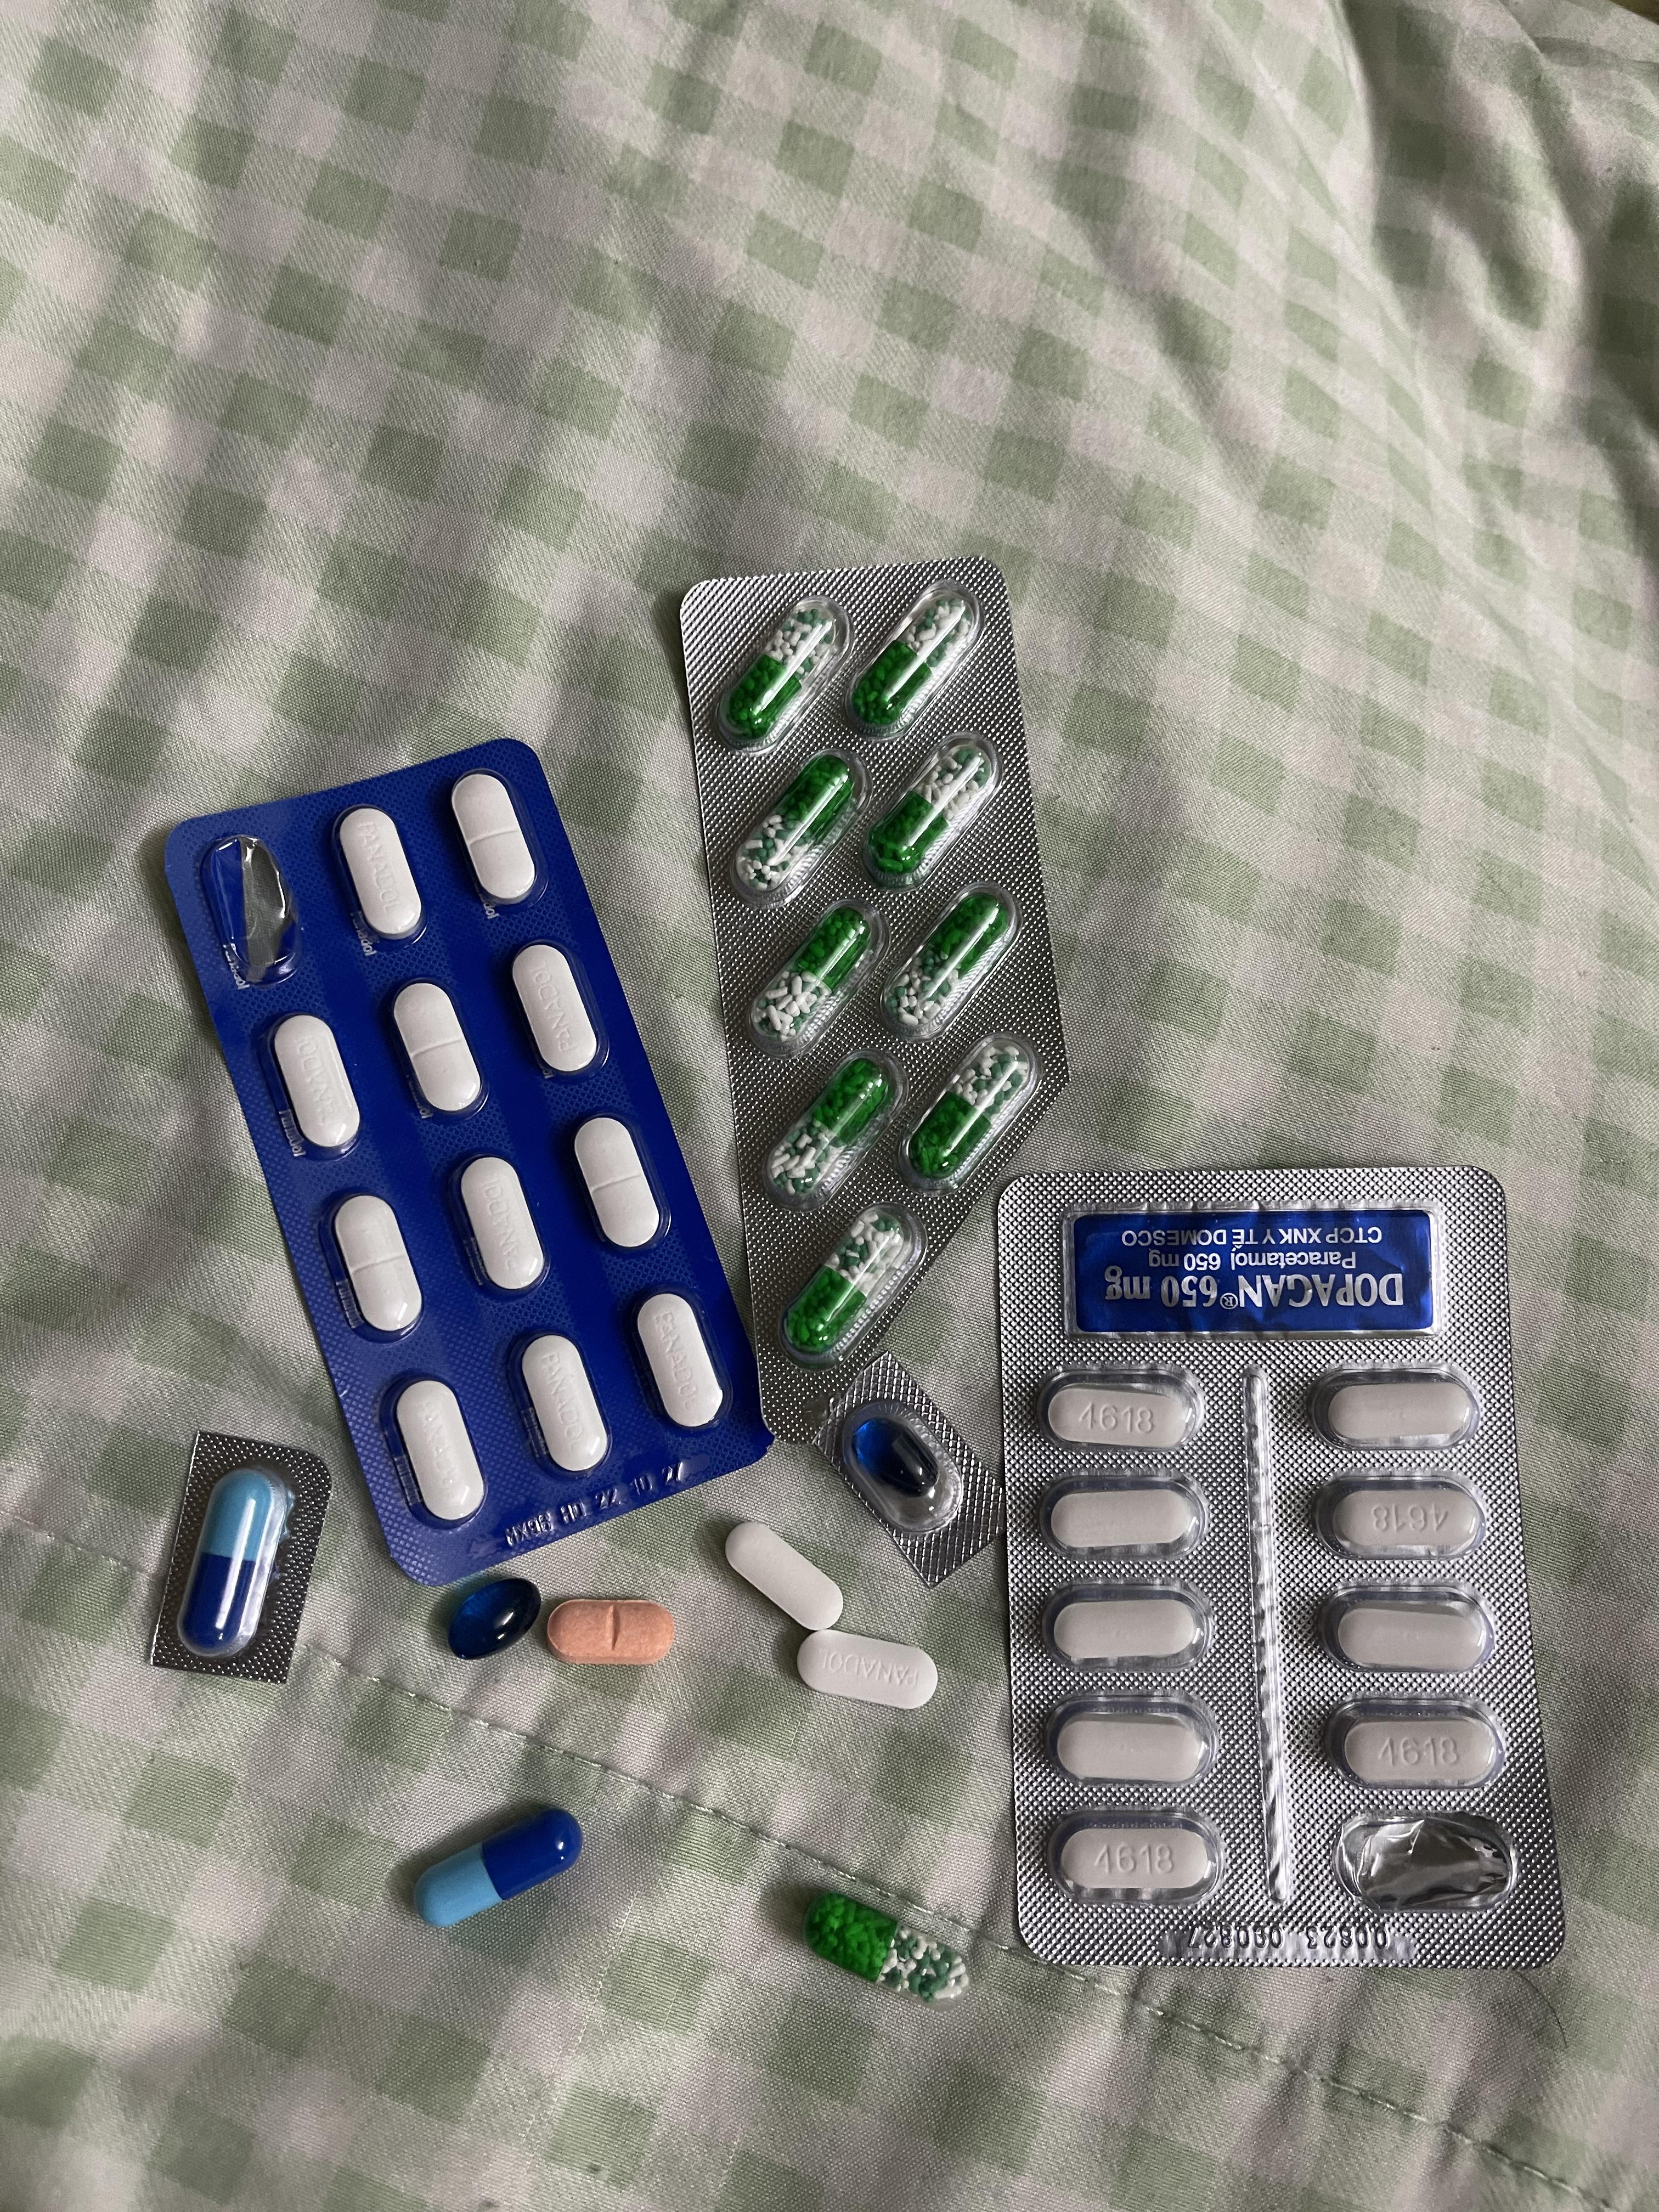Lincomyxin_500mg: (446, 1578, 544, 1658), (859, 1420, 938, 1500)
Loratadine_10mg: (547, 1597, 680, 1665)
Paracetamol_350mg: (390, 1378, 484, 1521), (331, 1195, 423, 1339), (455, 1155, 549, 1296), (514, 1334, 610, 1472), (390, 982, 486, 1120), (633, 1292, 727, 1430), (511, 944, 605, 1082), (270, 1015, 361, 1157), (573, 1115, 664, 1252), (336, 806, 425, 939), (451, 773, 535, 906), (798, 1630, 931, 1710)
Paracetamol_500mg: (1326, 1698, 1509, 1784), (1046, 1695, 1216, 1784), (1040, 1578, 1208, 1669), (1321, 1585, 1497, 1670), (1316, 1477, 1490, 1559), (727, 1521, 842, 1634), (1044, 1480, 1204, 1557), (1058, 1827, 1211, 1893), (1317, 1385, 1476, 1446), (1054, 1390, 1192, 1446)
Paracetamol_650mg: (758, 1050, 904, 1211), (730, 745, 873, 907), (894, 1031, 1033, 1191), (742, 899, 882, 1057), (863, 730, 999, 890), (779, 1197, 922, 1341), (802, 1892, 964, 2003), (885, 894, 1009, 1036), (849, 592, 972, 728), (725, 603, 840, 735)
pill: (410, 1804, 589, 1932), (179, 1468, 298, 1656)
